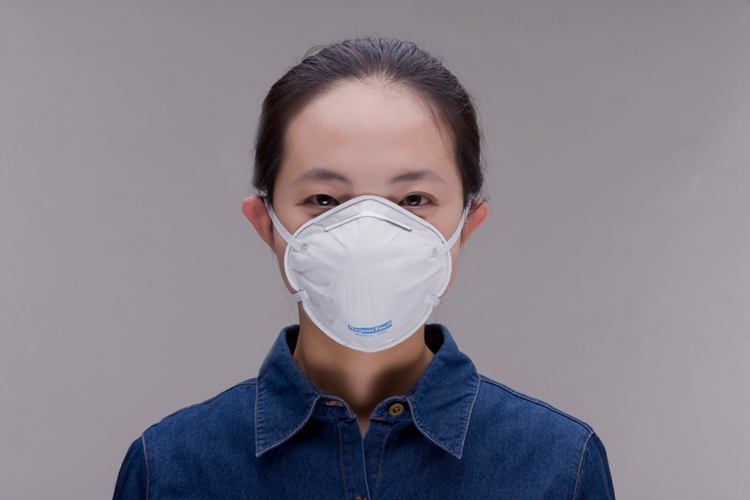face_mask: (271, 94, 464, 351)
